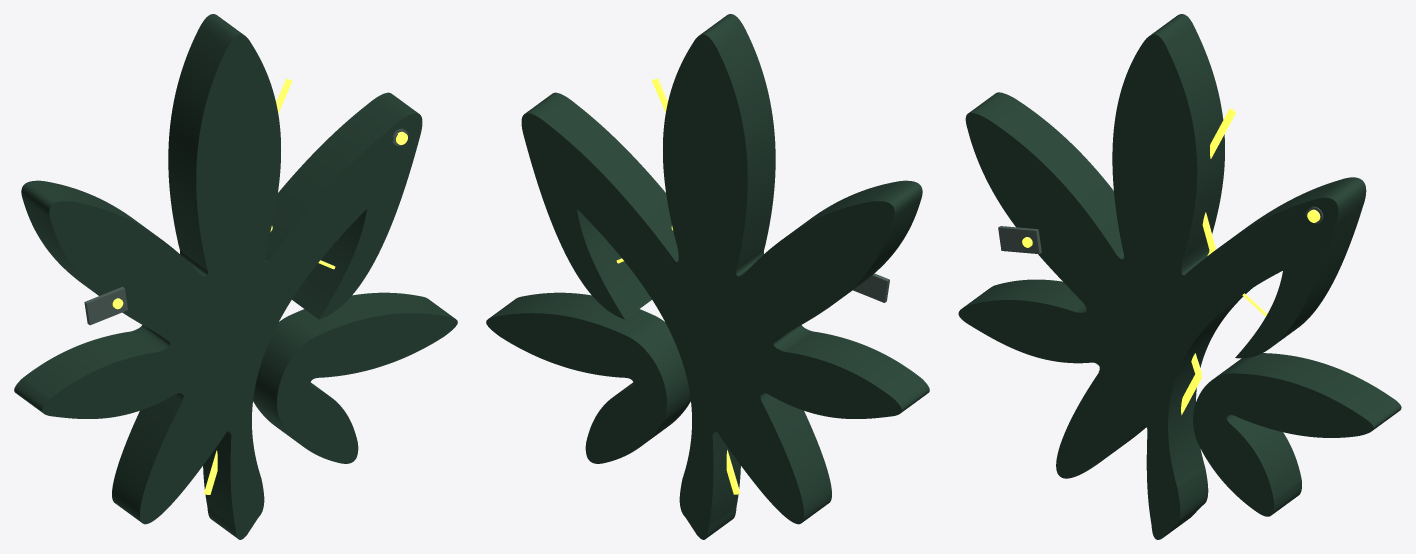
Rendered from PP_Leaf_Borg.glb.
3 views of the same model, side by side, from view 1: azimuth 30°, elevation 25°; view 2: azimuth 150°, elevation 25°; view 3: azimuth 330°, elevation 25° (orthographic).
Visible parts, largest first — view 1: PP_Leaf_solid_3D_10pct_depth.obj, raised_borg_implant_plate, central_neon_assimilation_spine; view 2: PP_Leaf_solid_3D_10pct_depth.obj, raised_borg_implant_plate, central_neon_assimilation_spine; view 3: PP_Leaf_solid_3D_10pct_depth.obj, central_neon_assimilation_spine, raised_borg_implant_plate.
Part boxes in pixels (x1,y1,x2,y2): PP_Leaf_solid_3D_10pct_depth.obj: [14, 14, 457, 539]; raised_borg_implant_plate: [84, 286, 127, 325]; central_neon_assimilation_spine: [204, 78, 292, 494]; PP_Leaf_solid_3D_10pct_depth.obj: [486, 14, 929, 539]; raised_borg_implant_plate: [853, 273, 889, 302]; central_neon_assimilation_spine: [652, 78, 740, 494]; PP_Leaf_solid_3D_10pct_depth.obj: [958, 14, 1401, 539]; central_neon_assimilation_spine: [1181, 108, 1235, 414]; raised_borg_implant_plate: [998, 226, 1041, 254].
Bounding box in the file's own units: 86.05 × 100 × 11.5.
